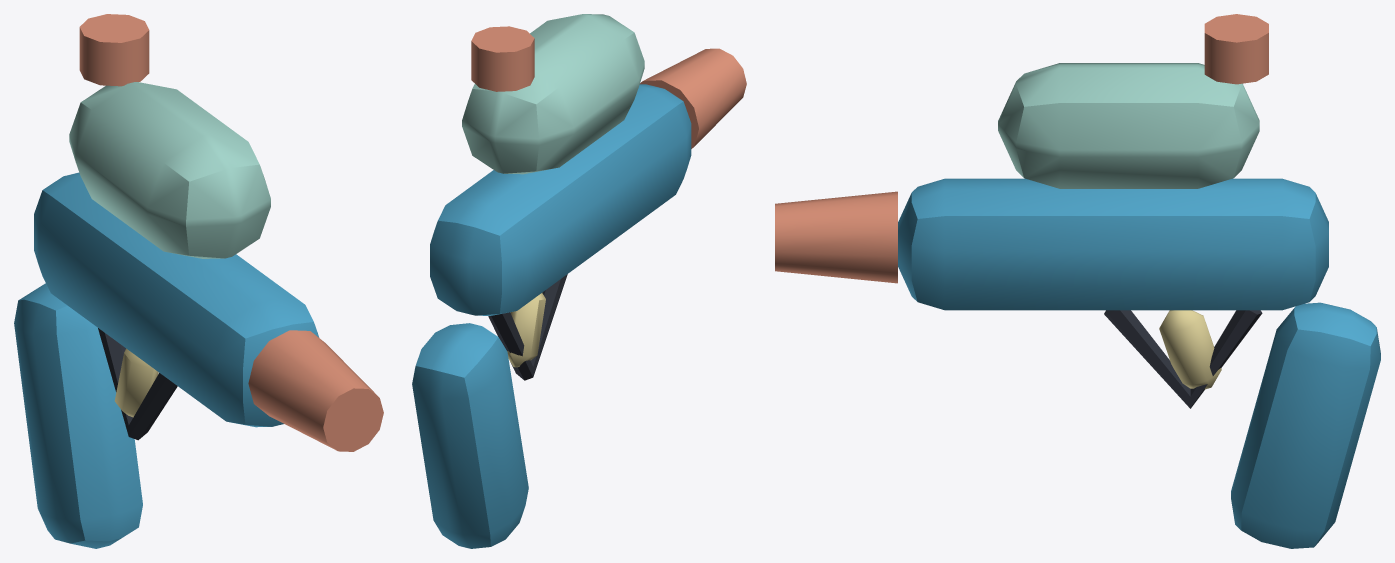
The model's file is item_watergun.glb.
3 renders of one model, left to right at view 1: azimuth 30°, elevation 25°; view 2: azimuth 150°, elevation 25°; view 3: azimuth 270°, elevation 25°, orthographic. The views are drawn at different scales.
Visible parts, largest first — view 1: watergun; view 2: watergun; view 3: watergun.
Part boxes in pixels (bbox=[...]): watergun: bbox=[14, 14, 383, 548]; watergun: bbox=[412, 14, 746, 548]; watergun: bbox=[775, 14, 1380, 548].
Size of the model in its own units: 0.119 by 0.5178 by 0.5513.
